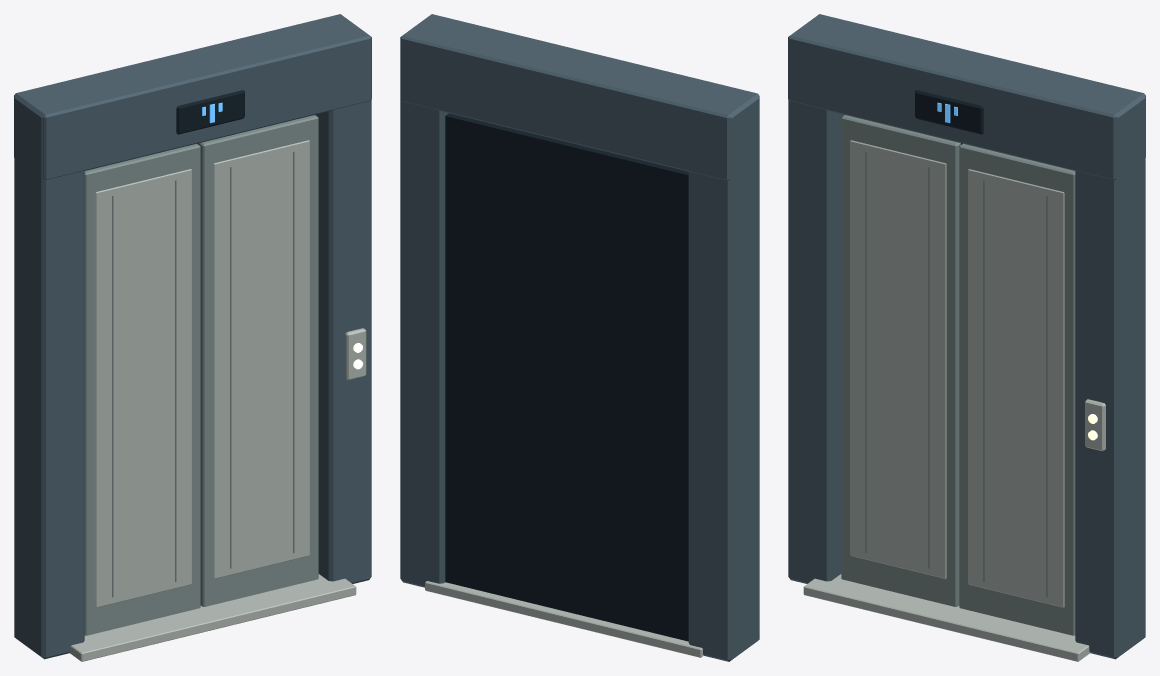
The model's file is elevator_portal.glb.
3 views of the same model, side by side, from view 1: azimuth 30°, elevation 25°; view 2: azimuth 150°, elevation 25°; view 3: azimuth 330°, elevation 25° (orthographic).
Visible parts, largest first — view 1: elevator_portal__wall, elevator_portal__steel.002, elevator_portal__steel.001, elevator_portal__metal_light.001, elevator_portal__metal_light, elevator_portal__steel, elevator_portal__black; view 2: elevator_portal__black, elevator_portal__wall, elevator_portal__steel; view 3: elevator_portal__wall, elevator_portal__steel.001, elevator_portal__steel.002, elevator_portal__metal_light, elevator_portal__metal_light.001, elevator_portal__steel, elevator_portal__black.
Boxes of the visible parts, x1,y1,x2,y2 form: elevator_portal__wall: (14, 14, 371, 659); elevator_portal__steel.002: (213, 140, 309, 578); elevator_portal__steel.001: (95, 169, 191, 607); elevator_portal__metal_light.001: (199, 115, 318, 606); elevator_portal__metal_light: (84, 143, 200, 635); elevator_portal__steel: (69, 328, 366, 661); elevator_portal__black: (176, 90, 244, 144); elevator_portal__black: (445, 113, 688, 641); elevator_portal__wall: (400, 14, 759, 661); elevator_portal__steel: (425, 581, 703, 657); elevator_portal__wall: (788, 14, 1145, 659); elevator_portal__steel.001: (850, 140, 946, 578); elevator_portal__steel.002: (968, 169, 1064, 607); elevator_portal__metal_light: (841, 115, 960, 606); elevator_portal__metal_light.001: (959, 143, 1075, 635); elevator_portal__steel: (803, 399, 1105, 661); elevator_portal__black: (915, 90, 983, 144).
Size of the model in its own units: 1.68 by 2.65 by 0.38.
